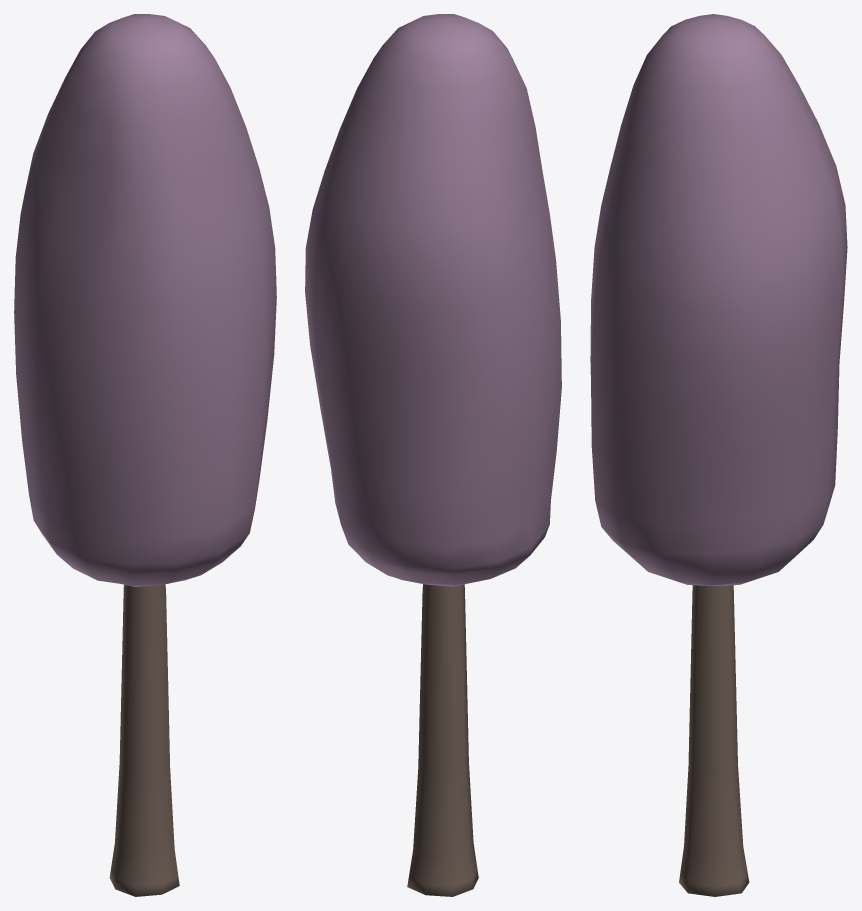
Rendered from Tree_Long_Pink.fbx.
3 renders of one model, left to right at view 1: azimuth 30°, elevation 25°; view 2: azimuth 150°, elevation 25°; view 3: azimuth 270°, elevation 25°, orthographic.
Parts seen in each view (by area): view 1: Leaves, Trunk; view 2: Leaves, Trunk; view 3: Leaves, Trunk.
Boxes of the visible parts, x1,y1,x2,y2 form: Leaves: [14, 14, 276, 586]; Trunk: [109, 584, 179, 896]; Leaves: [305, 14, 561, 586]; Trunk: [407, 584, 478, 896]; Leaves: [590, 14, 847, 586]; Trunk: [679, 585, 749, 896].
Bounding box in the file's own units: 0.6382 × 2.34 × 0.6327.
